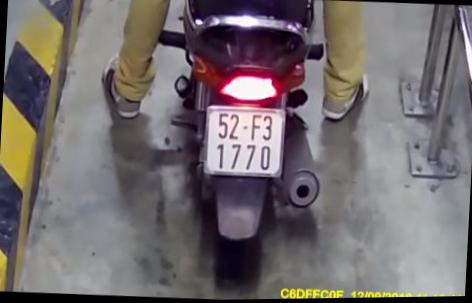LP: (202, 104, 287, 181)
